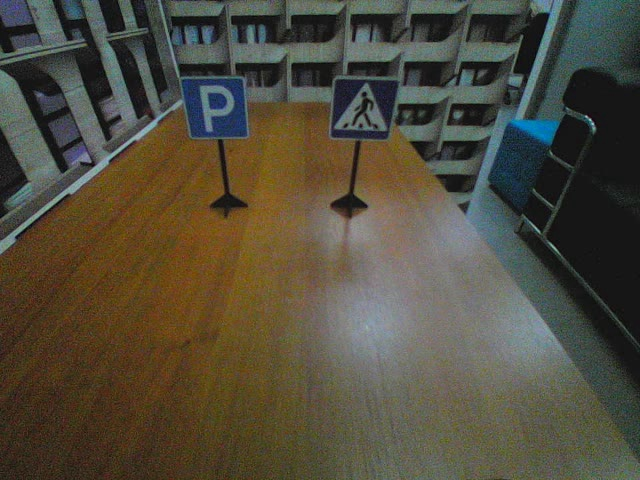Parking: (169, 69, 256, 144)
Pedestrian crossing: (323, 67, 403, 147)
